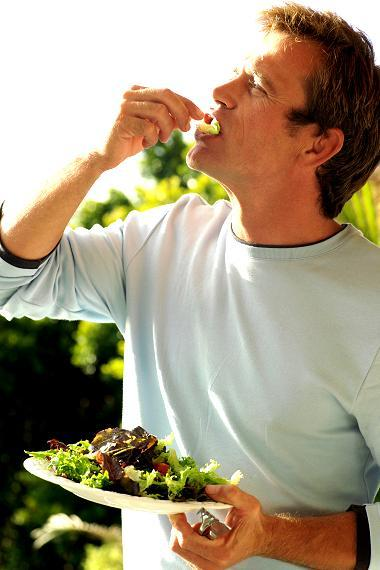eating: (10, 4, 379, 533)
